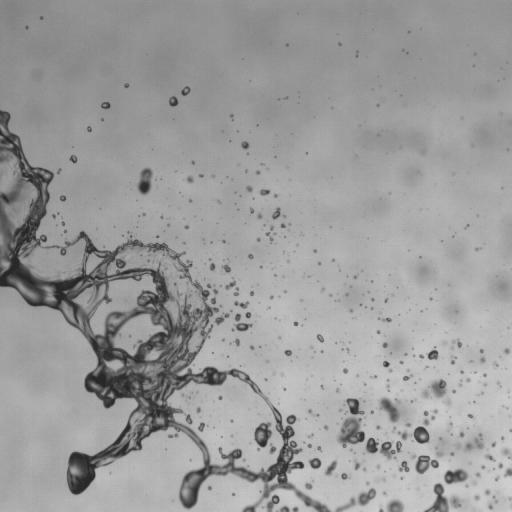droplet: (363, 437, 402, 460), (376, 396, 401, 423), (253, 421, 272, 451), (420, 379, 446, 399), (137, 167, 153, 195), (443, 468, 468, 484), (426, 346, 438, 360), (308, 457, 321, 469), (500, 447, 511, 460), (353, 459, 365, 470), (398, 460, 409, 472), (7, 121, 18, 132), (21, 145, 32, 156), (46, 182, 57, 193), (240, 196, 251, 207), (266, 198, 277, 209), (44, 201, 55, 212), (170, 241, 181, 252), (206, 271, 217, 282), (224, 316, 235, 327), (71, 328, 82, 339), (86, 359, 97, 370), (190, 362, 201, 373), (410, 363, 421, 374), (487, 369, 498, 380), (421, 376, 432, 387), (469, 379, 480, 390), (428, 394, 439, 405), (125, 397, 136, 408), (394, 418, 405, 429), (330, 424, 341, 435), (404, 436, 415, 447), (441, 440, 452, 451), (416, 443, 427, 454), (472, 448, 483, 459), (395, 450, 406, 461), (389, 457, 400, 468), (438, 461, 449, 472), (463, 464, 474, 475), (285, 470, 296, 481), (364, 470, 375, 481), (481, 470, 492, 481), (205, 473, 216, 484), (236, 476, 247, 487), (442, 484, 453, 495), (307, 488, 318, 499), (378, 496, 389, 507), (461, 496, 472, 507), (367, 498, 378, 509), (382, 360, 392, 372), (0, 182, 10, 193), (484, 452, 495, 461), (272, 207, 280, 219), (169, 96, 178, 106), (442, 397, 451, 407), (304, 480, 313, 490), (181, 86, 190, 95), (9, 155, 18, 164), (132, 174, 141, 183), (148, 178, 157, 187), (222, 273, 231, 282), (236, 330, 245, 339), (477, 363, 486, 372), (376, 376, 385, 385), (487, 381, 496, 390), (325, 382, 334, 391), (371, 399, 380, 408), (395, 403, 404, 412), (380, 409, 389, 418), (316, 416, 325, 425), (153, 429, 162, 438), (390, 433, 399, 442), (463, 433, 472, 442), (495, 440, 504, 449), (86, 447, 95, 456), (490, 447, 499, 456), (309, 449, 318, 458), (373, 450, 382, 459), (494, 453, 503, 462), (116, 455, 125, 464), (407, 458, 416, 467), (502, 459, 511, 468), (194, 460, 203, 469), (344, 464, 353, 473), (333, 465, 342, 474), (226, 471, 235, 480), (254, 478, 263, 487), (487, 481, 496, 490), (60, 482, 69, 491), (197, 485, 206, 494), (468, 485, 477, 494), (274, 486, 283, 495), (480, 494, 489, 503), (294, 498, 303, 507), (326, 501, 335, 510), (183, 175, 193, 183), (341, 472, 351, 480), (269, 443, 276, 454), (197, 422, 205, 431), (259, 189, 270, 195), (505, 438, 511, 449), (255, 505, 266, 511), (350, 505, 361, 511), (241, 141, 249, 149), (69, 155, 77, 163), (316, 334, 324, 342), (101, 102, 110, 109), (450, 355, 457, 364), (458, 427, 464, 437), (284, 349, 292, 356), (473, 493, 480, 501), (0, 234, 5, 245), (0, 284, 5, 295), (209, 262, 215, 271), (233, 287, 239, 296), (404, 420, 411, 427), (474, 472, 481, 479), (176, 94, 183, 101), (72, 149, 79, 156), (137, 163, 144, 170), (248, 167, 255, 174), (192, 175, 199, 182), (132, 186, 139, 193), (252, 187, 259, 194), (275, 216, 282, 223), (39, 217, 46, 224), (273, 224, 280, 231), (34, 230, 41, 237), (92, 240, 99, 247), (179, 255, 186, 262), (214, 263, 221, 270), (347, 277, 354, 284), (217, 286, 224, 293), (236, 295, 243, 302), (39, 304, 46, 311), (353, 305, 360, 312), (238, 307, 245, 314), (52, 308, 59, 315), (211, 311, 218, 318), (208, 315, 215, 322), (239, 316, 246, 323), (234, 329, 241, 336), (85, 343, 92, 350), (485, 357, 492, 364), (207, 360, 214, 367), (216, 364, 223, 371), (463, 370, 470, 377), (79, 372, 86, 379), (366, 378, 373, 385), (444, 384, 451, 391), (414, 390, 421, 397), (88, 391, 95, 398), (416, 395, 423, 402), (114, 397, 121, 404), (96, 398, 103, 405), (357, 403, 364, 410), (345, 411, 352, 418), (281, 420, 288, 427), (358, 424, 365, 431), (167, 426, 174, 433), (407, 426, 414, 433), (441, 431, 448, 438), (109, 434, 116, 441), (459, 437, 466, 444), (140, 438, 147, 445), (359, 440, 366, 447), (483, 440, 490, 447), (471, 446, 478, 453), (454, 448, 461, 455), (479, 448, 486, 455), (127, 450, 134, 457), (314, 451, 321, 458), (365, 451, 372, 458), (292, 454, 299, 461), (484, 459, 491, 466), (303, 461, 310, 468), (320, 462, 327, 469), (449, 465, 456, 472), (181, 467, 188, 474), (498, 467, 505, 474), (376, 469, 383, 476), (438, 477, 445, 484), (88, 481, 95, 488), (441, 481, 448, 488), (362, 485, 369, 492), (301, 487, 308, 494), (479, 492, 486, 499), (430, 493, 437, 500), (318, 497, 325, 504), (342, 497, 349, 504), (246, 499, 253, 506), (175, 500, 182, 507), (473, 500, 480, 507), (272, 503, 279, 510), (506, 398, 511, 407), (187, 506, 196, 511), (401, 506, 410, 511), (447, 506, 456, 511), (246, 185, 252, 192), (256, 212, 262, 219), (503, 348, 510, 354), (306, 433, 313, 439), (484, 488, 490, 495), (234, 338, 239, 346), (467, 414, 475, 419), (59, 195, 65, 201), (245, 312, 251, 318), (471, 479, 477, 485), (493, 361, 498, 368), (196, 406, 201, 413), (317, 445, 322, 452), (488, 502, 493, 509), (86, 126, 91, 132), (56, 168, 61, 174), (280, 222, 285, 228), (248, 253, 253, 259), (442, 340, 447, 346), (382, 342, 387, 348), (480, 357, 485, 363), (342, 368, 348, 373), (496, 381, 501, 387), (323, 424, 328, 430), (491, 441, 496, 447), (498, 462, 503, 468), (494, 475, 499, 481), (382, 491, 388, 496), (250, 207, 254, 214), (474, 247, 481, 251), (507, 474, 511, 481), (182, 507, 189, 511), (345, 507, 352, 511), (353, 274, 358, 279), (320, 287, 325, 292), (293, 321, 298, 326), (249, 345, 254, 350), (419, 354, 424, 359), (465, 377, 470, 382), (375, 464, 380, 469), (123, 78, 128, 83), (164, 101, 169, 106), (173, 104, 178, 109), (0, 106, 5, 111), (247, 140, 252, 145), (246, 146, 251, 151), (241, 148, 246, 153), (29, 161, 34, 166), (43, 164, 48, 169), (46, 165, 51, 170), (257, 165, 262, 170), (51, 168, 56, 173), (182, 173, 187, 178), (187, 182, 192, 187), (263, 184, 268, 189), (241, 186, 246, 191), (247, 191, 252, 196), (267, 192, 272, 197), (264, 193, 269, 198), (253, 209, 258, 214), (279, 209, 284, 214), (258, 218, 263, 223), (63, 224, 68, 229), (59, 225, 64, 230), (264, 226, 269, 231), (84, 229, 89, 234), (74, 231, 79, 236), (87, 233, 92, 238), (272, 234, 277, 239), (67, 237, 72, 242), (121, 238, 126, 243), (151, 238, 156, 243), (157, 238, 162, 243), (204, 238, 209, 243), (142, 239, 147, 244), (39, 240, 44, 245), (60, 242, 65, 247), (167, 243, 172, 248), (109, 246, 114, 251), (175, 248, 180, 253), (205, 261, 210, 266), (187, 266, 192, 271), (272, 268, 277, 273), (276, 273, 281, 278), (348, 273, 353, 278), (201, 284, 206, 289), (214, 284, 219, 289), (230, 286, 235, 291), (345, 287, 350, 292), (323, 289, 328, 294), (279, 291, 284, 296), (368, 292, 373, 297), (331, 294, 336, 299), (328, 296, 333, 301), (20, 298, 25, 303), (267, 299, 272, 304), (369, 301, 374, 306), (24, 302, 29, 307), (208, 302, 213, 307), (213, 302, 218, 307), (27, 304, 32, 309), (350, 311, 355, 316), (230, 312, 235, 317), (219, 321, 224, 326), (212, 322, 217, 327), (71, 326, 76, 331), (243, 329, 248, 334), (204, 337, 209, 342), (223, 339, 228, 344), (239, 339, 244, 344), (446, 341, 451, 346), (231, 342, 236, 347), (337, 342, 342, 347), (452, 342, 457, 347), (201, 343, 206, 348), (347, 343, 352, 348), (504, 343, 509, 348), (253, 344, 258, 349), (284, 344, 289, 349), (500, 345, 505, 350), (384, 346, 389, 351), (426, 347, 431, 352), (315, 350, 320, 355), (407, 350, 412, 355), (437, 351, 442, 356), (478, 352, 483, 357), (501, 352, 506, 357), (194, 354, 199, 359), (288, 354, 293, 359), (400, 355, 405, 360), (414, 355, 419, 360), (430, 358, 435, 363), (495, 358, 500, 363), (378, 359, 383, 364), (343, 363, 348, 368), (387, 363, 392, 368), (234, 364, 239, 369), (383, 366, 388, 371), (477, 370, 482, 375), (404, 371, 409, 376), (460, 373, 465, 378), (468, 373, 473, 378), (249, 375, 254, 380), (480, 376, 485, 381), (408, 377, 413, 382), (461, 379, 466, 384), (79, 380, 84, 385), (453, 384, 458, 389), (481, 386, 486, 391), (350, 393, 355, 398), (441, 394, 446, 399), (390, 399, 395, 404), (109, 404, 114, 409), (344, 405, 349, 410), (311, 409, 316, 414), (294, 412, 299, 417), (305, 412, 310, 417), (434, 413, 439, 418), (420, 414, 425, 419), (425, 414, 430, 419), (450, 417, 455, 422), (338, 419, 343, 424), (428, 419, 433, 424), (392, 421, 397, 426), (418, 421, 423, 426), (290, 423, 295, 428), (120, 424, 125, 429), (424, 425, 429, 430), (462, 428, 467, 433), (177, 430, 182, 435), (150, 431, 155, 436), (363, 435, 368, 440), (396, 435, 401, 440), (171, 436, 176, 441), (287, 436, 292, 441), (305, 438, 310, 443), (399, 438, 404, 443), (413, 440, 418, 445), (470, 440, 475, 445), (422, 441, 427, 446), (337, 442, 342, 447), (311, 443, 316, 448), (399, 445, 404, 450), (450, 446, 455, 451), (394, 451, 399, 456), (64, 454, 69, 459), (429, 454, 434, 459), (356, 457, 361, 462), (436, 457, 441, 462), (396, 460, 401, 465), (493, 461, 498, 466), (350, 462, 355, 467), (379, 465, 384, 470), (427, 465, 432, 470), (357, 466, 362, 471), (93, 467, 98, 472), (313, 467, 318, 472), (478, 468, 483, 473), (330, 469, 335, 474), (306, 478, 311, 483), (343, 478, 348, 483), (464, 478, 469, 483), (429, 484, 434, 489), (269, 490, 274, 495), (489, 490, 494, 495), (69, 492, 74, 497), (257, 492, 262, 497), (469, 495, 474, 500), (368, 498, 373, 503), (489, 498, 494, 503), (505, 499, 510, 504), (491, 502, 496, 507), (481, 373, 487, 377), (124, 83, 129, 87), (190, 160, 195, 164), (255, 170, 260, 174), (273, 193, 278, 197), (217, 199, 221, 204), (61, 221, 65, 226), (184, 225, 189, 229), (270, 225, 274, 230), (250, 291, 254, 296), (269, 294, 273, 299), (320, 384, 324, 389), (338, 408, 343, 412), (370, 409, 374, 414), (376, 425, 381, 429), (464, 483, 469, 487), (207, 485, 211, 490), (188, 198, 192, 202), (282, 214, 286, 218), (256, 237, 260, 241), (317, 261, 321, 265), (328, 293, 332, 297), (384, 298, 388, 302), (349, 308, 353, 312), (376, 330, 380, 334), (309, 345, 313, 349), (479, 349, 483, 353), (399, 360, 403, 364), (483, 382, 487, 386), (218, 395, 222, 399), (383, 431, 387, 435), (307, 443, 311, 447), (242, 458, 246, 462), (481, 465, 485, 469), (362, 467, 366, 471), (392, 473, 396, 477), (365, 481, 369, 485), (198, 174, 203, 177), (272, 232, 277, 235), (406, 367, 409, 372), (336, 388, 339, 393), (185, 396, 190, 399), (501, 436, 504, 441), (508, 346, 511, 351), (508, 350, 511, 355), (508, 405, 511, 410), (508, 491, 511, 496), (342, 508, 347, 511), (486, 508, 491, 511), (25, 25, 28, 29), (283, 96, 287, 99), (211, 174, 215, 177), (52, 214, 55, 218), (64, 229, 67, 233), (155, 235, 159, 238), (221, 240, 225, 243), (313, 249, 317, 252), (286, 259, 289, 263), (331, 258, 334, 262), (283, 290, 287, 293), (371, 297, 374, 301), (266, 306, 270, 309), (370, 306, 373, 310), (277, 336, 281, 339), (265, 360, 269, 363), (424, 365, 428, 368), (272, 371, 275, 375), (280, 372, 283, 376), (363, 382, 366, 386), (452, 389, 455, 393), (438, 437, 442, 440), (450, 452, 454, 455), (400, 476, 404, 479), (416, 487, 420, 490), (231, 492, 235, 495), (468, 360, 473, 362), (0, 134, 2, 139), (40, 16, 43, 19), (285, 43, 288, 46), (338, 42, 341, 45), (246, 152, 249, 155), (167, 223, 170, 226), (208, 258, 211, 261), (259, 265, 262, 268), (219, 284, 222, 287), (345, 293, 348, 296), (390, 293, 393, 296), (429, 297, 432, 300), (359, 303, 362, 306), (219, 304, 222, 307), (364, 305, 367, 308), (455, 310, 458, 313), (128, 334, 131, 337), (221, 338, 224, 341), (229, 342, 232, 345), (313, 350, 316, 353), (320, 350, 323, 353), (404, 352, 407, 355), (412, 354, 415, 357), (356, 374, 359, 377), (264, 378, 267, 381), (283, 387, 286, 390), (507, 390, 510, 393), (181, 393, 184, 396), (230, 419, 233, 422), (230, 434, 233, 437), (492, 467, 495, 470), (39, 12, 42, 15), (42, 15, 45, 18), (36, 16, 39, 19), (39, 19, 42, 22), (22, 26, 25, 29), (27, 26, 30, 29), (404, 29, 407, 32), (340, 40, 343, 43), (335, 43, 338, 46), (338, 45, 341, 48), (404, 48, 407, 51), (353, 51, 356, 54), (357, 52, 360, 55), (183, 83, 186, 86), (187, 84, 190, 87), (180, 86, 183, 89), (124, 87, 127, 90), (189, 89, 192, 92), (186, 93, 189, 96), (282, 94, 285, 97), (287, 96, 290, 99), (284, 98, 287, 101), (375, 100, 378, 103), (98, 101, 101, 104), (109, 102, 112, 105), (375, 106, 378, 109), (101, 107, 104, 110), (106, 107, 109, 110), (227, 111, 230, 114), (231, 111, 234, 114), (232, 115, 235, 118), (103, 117, 106, 120), (228, 117, 231, 120), (99, 120, 102, 123), (253, 122, 256, 125), (258, 123, 261, 126), (84, 124, 87, 127), (91, 127, 94, 130), (84, 129, 87, 132), (87, 131, 90, 134), (227, 136, 230, 139), (225, 139, 228, 142), (305, 148, 308, 151), (302, 151, 305, 154), (307, 151, 310, 154), (67, 154, 70, 157), (76, 159, 79, 162), (188, 159, 191, 162), (193, 159, 196, 162), (260, 159, 263, 162), (69, 160, 72, 163), (73, 162, 76, 165), (189, 163, 192, 166), (241, 169, 244, 172), (59, 170, 62, 173), (246, 170, 249, 173), (259, 170, 262, 173), (199, 171, 202, 174), (225, 172, 228, 175), (257, 173, 260, 176), (0, 175, 3, 178), (198, 176, 201, 179), (227, 176, 230, 179), (184, 179, 187, 182), (180, 191, 183, 194), (62, 192, 65, 195), (235, 192, 238, 195), (276, 195, 279, 198), (65, 196, 68, 199), (190, 196, 193, 199), (185, 198, 188, 201), (219, 198, 222, 201), (251, 199, 254, 202), (60, 200, 63, 203), (188, 202, 191, 205), (273, 208, 276, 211), (142, 209, 145, 212), (247, 209, 250, 212), (53, 211, 56, 214), (139, 212, 142, 215), (260, 212, 263, 215), (157, 213, 160, 216), (55, 214, 58, 217), (162, 215, 165, 218), (157, 216, 160, 219), (269, 216, 272, 219), (63, 219, 66, 222), (466, 220, 469, 223), (58, 222, 61, 225), (64, 222, 67, 225), (183, 222, 186, 225), (284, 222, 287, 225), (169, 223, 172, 226), (463, 223, 466, 226), (188, 224, 191, 227), (466, 226, 469, 229), (281, 227, 284, 230), (128, 228, 131, 231), (184, 228, 187, 231), (60, 230, 63, 233), (451, 231, 454, 234), (154, 232, 157, 235), (268, 232, 271, 235), (280, 234, 283, 237), (46, 236, 49, 239), (222, 236, 225, 239), (440, 236, 443, 239), (209, 237, 212, 240), (283, 237, 286, 240), (182, 238, 185, 241), (253, 238, 256, 241), (212, 240, 215, 243), (271, 240, 274, 243), (164, 241, 167, 244), (224, 241, 227, 244), (256, 241, 259, 244), (221, 242, 224, 245), (209, 243, 212, 246), (475, 244, 478, 247), (312, 246, 315, 249), (316, 248, 319, 251), (472, 249, 475, 252), (477, 249, 480, 252), (279, 250, 282, 253), (284, 250, 287, 253), (310, 250, 313, 253), (246, 251, 249, 254), (251, 252, 254, 255), (418, 252, 421, 255), (208, 254, 211, 257), (244, 254, 247, 257), (415, 255, 418, 258), (246, 257, 249, 260), (328, 257, 331, 260), (250, 258, 253, 261), (334, 258, 337, 261), (320, 260, 323, 263), (191, 261, 194, 264), (222, 261, 225, 264), (314, 261, 317, 264), (331, 261, 334, 264), (258, 262, 261, 265), (227, 263, 230, 266), (262, 264, 265, 267), (221, 268, 224, 271), (353, 272, 356, 275), (304, 273, 307, 276), (356, 275, 359, 278), (273, 276, 276, 279), (370, 276, 373, 279), (234, 277, 237, 280), (191, 278, 194, 281), (352, 278, 355, 281), (367, 278, 370, 281), (370, 282, 373, 285), (209, 283, 212, 286), (318, 286, 321, 289), (250, 287, 253, 290), (281, 287, 284, 290), (285, 287, 288, 290), (237, 289, 240, 292), (253, 290, 256, 293), (364, 291, 367, 294), (284, 292, 287, 295), (267, 293, 270, 296), (249, 295, 252, 298), (345, 295, 348, 298), (431, 295, 434, 298), (272, 296, 275, 299), (373, 296, 376, 299), (381, 298, 384, 301), (368, 299, 371, 302), (386, 299, 389, 302), (427, 299, 430, 302), (430, 299, 433, 302), (231, 300, 234, 303), (237, 300, 240, 303), (359, 300, 362, 303), (356, 303, 359, 306), (361, 304, 364, 307), (264, 305, 267, 308), (270, 305, 273, 308), (349, 305, 352, 308), (367, 305, 370, 308), (372, 307, 375, 310), (267, 308, 270, 311), (422, 308, 425, 311), (419, 311, 422, 314), (250, 312, 253, 315), (383, 315, 386, 318), (275, 318, 278, 321), (294, 318, 297, 321), (303, 319, 306, 322), (377, 319, 380, 322), (384, 320, 387, 323), (290, 322, 293, 325), (297, 322, 300, 325), (302, 324, 305, 327), (293, 325, 296, 328), (210, 328, 213, 331), (379, 329, 382, 332), (373, 330, 376, 333), (277, 332, 280, 335), (320, 332, 323, 335), (376, 333, 379, 336), (220, 335, 223, 338), (322, 335, 325, 338), (453, 336, 456, 339), (232, 337, 235, 340), (316, 339, 319, 342), (459, 339, 462, 342), (336, 340, 339, 343), (258, 342, 261, 345), (379, 342, 382, 345), (333, 343, 336, 346), (460, 344, 463, 347), (261, 345, 264, 348), (342, 345, 345, 348), (479, 345, 482, 348), (247, 347, 250, 350), (211, 348, 214, 351), (322, 348, 325, 351), (343, 348, 346, 351), (476, 348, 479, 351), (348, 349, 351, 352), (404, 349, 407, 352), (322, 351, 325, 354), (282, 352, 285, 355), (319, 352, 322, 355), (211, 353, 214, 356), (223, 353, 226, 356), (228, 354, 231, 357), (424, 354, 427, 357), (469, 356, 472, 359), (418, 357, 421, 360), (447, 359, 450, 362), (469, 362, 472, 365), (398, 363, 401, 366), (451, 363, 454, 366), (340, 366, 343, 369), (495, 366, 498, 369), (425, 367, 428, 370), (462, 368, 465, 371), (472, 368, 475, 371), (245, 371, 248, 374), (340, 371, 343, 374), (346, 371, 349, 374), (457, 371, 460, 374), (358, 372, 361, 375), (371, 372, 374, 375), (265, 375, 268, 378), (372, 377, 375, 380), (442, 377, 445, 380), (456, 379, 459, 382), (384, 380, 387, 383), (388, 380, 391, 383), (499, 381, 502, 384), (360, 382, 363, 385), (479, 382, 482, 385), (413, 383, 416, 386), (283, 384, 286, 387), (322, 384, 325, 387), (337, 384, 340, 387), (495, 384, 498, 387), (317, 385, 320, 388), (363, 385, 366, 388), (259, 387, 262, 390), (279, 387, 282, 390), (285, 387, 288, 390), (332, 388, 335, 391), (455, 389, 458, 392), (282, 390, 285, 393), (477, 390, 480, 393), (483, 391, 486, 394), (479, 394, 482, 397), (396, 396, 399, 399), (410, 396, 413, 399), (407, 399, 410, 402), (469, 399, 472, 402), (475, 399, 478, 402), (412, 400, 415, 403), (504, 403, 507, 406), (274, 405, 277, 408), (306, 406, 309, 409), (502, 407, 505, 410), (278, 409, 281, 412), (437, 409, 440, 412), (420, 411, 423, 414), (469, 411, 472, 414), (448, 412, 451, 415), (318, 414, 321, 417), (314, 415, 317, 418), (466, 416, 469, 419), (407, 419, 410, 422), (325, 422, 328, 425), (376, 422, 379, 425), (452, 423, 455, 426), (373, 424, 376, 427), (327, 426, 330, 429), (321, 427, 324, 430), (394, 428, 397, 431), (449, 429, 452, 432), (480, 430, 483, 433), (307, 431, 310, 434), (456, 432, 459, 435), (428, 433, 431, 436), (481, 434, 484, 437), (311, 435, 314, 438), (411, 436, 414, 439), (503, 436, 506, 439), (168, 437, 171, 440), (387, 438, 390, 441), (488, 442, 491, 445), (320, 446, 323, 449), (453, 452, 456, 455), (450, 455, 453, 458), (107, 463, 110, 466), (365, 466, 368, 469), (373, 467, 376, 470), (493, 474, 496, 477), (338, 475, 341, 478), (384, 476, 387, 479), (402, 477, 405, 480), (366, 478, 369, 481), (399, 479, 402, 482), (493, 480, 496, 483), (310, 482, 313, 485), (231, 489, 234, 492), (228, 492, 231, 495), (234, 492, 237, 495), (231, 495, 234, 498), (495, 496, 498, 499), (376, 507, 379, 510), (260, 163, 264, 165), (245, 169, 247, 173), (273, 274, 277, 276), (307, 275, 311, 277), (472, 64, 474, 67), (376, 104, 379, 106), (101, 118, 103, 121), (388, 192, 391, 194), (288, 223, 291, 225), (183, 241, 185, 244), (296, 243, 298, 246), (367, 290, 369, 293), (300, 299, 303, 301), (230, 309, 232, 312), (420, 310, 423, 312), (211, 352, 214, 354), (226, 355, 229, 357), (400, 389, 403, 391), (196, 391, 198, 394), (473, 400, 475, 403), (220, 435, 222, 438), (509, 325, 511, 328), (509, 390, 511, 393), (509, 396, 511, 399), (509, 425, 511, 428), (509, 431, 511, 434), (408, 31, 410, 33), (402, 49, 404, 51), (256, 124, 258, 126), (236, 130, 238, 132), (229, 140, 231, 142), (305, 152, 307, 154), (174, 170, 176, 172), (226, 176, 228, 178), (501, 187, 503, 189), (234, 191, 236, 193), (252, 197, 254, 199), (237, 208, 239, 210), (57, 212, 59, 214), (476, 214, 478, 216), (263, 224, 265, 226), (452, 235, 454, 237), (202, 238, 204, 240), (210, 241, 212, 243), (441, 240, 443, 242), (103, 245, 105, 247), (293, 250, 295, 252), (419, 256, 421, 258), (282, 275, 284, 277), (346, 275, 348, 277), (371, 280, 373, 282), (278, 295, 280, 297), (274, 317, 276, 319), (301, 324, 303, 326), (348, 341, 350, 343), (259, 345, 261, 347), (499, 356, 501, 358), (419, 378, 421, 380), (414, 382, 416, 384), (190, 392, 192, 394), (363, 400, 365, 402), (277, 402, 279, 404), (305, 417, 307, 419), (336, 422, 338, 424), (450, 433, 452, 435), (303, 441, 305, 443), (249, 442, 251, 444), (189, 459, 191, 461), (109, 472, 111, 474), (406, 52, 408, 53), (278, 98, 279, 100), (507, 148, 508, 150), (274, 156, 276, 157), (239, 195, 241, 196), (113, 226, 115, 227), (122, 234, 123, 236), (408, 249, 409, 251), (283, 251, 284, 253), (223, 259, 224, 261), (317, 280, 318, 282), (435, 288, 436, 290), (507, 327, 509, 328), (445, 331, 446, 333), (335, 342, 337, 343), (412, 347, 413, 349), (390, 352, 391, 354), (340, 383, 341, 385), (467, 427, 468, 429), (165, 448, 166, 450), (160, 178, 161, 179), (61, 217, 62, 218), (339, 269, 340, 270), (204, 278, 205, 279), (397, 287, 398, 288), (398, 314, 399, 315), (304, 318, 305, 319), (213, 427, 214, 428), (384, 471, 385, 472)
ligament: (336, 397, 366, 448), (454, 433, 484, 452), (378, 498, 404, 511), (324, 459, 337, 476), (214, 312, 229, 325), (275, 504, 298, 511), (225, 276, 236, 290), (234, 300, 249, 309), (446, 416, 453, 432), (503, 463, 511, 477), (308, 408, 319, 417), (265, 232, 273, 243), (402, 373, 413, 381), (377, 317, 391, 322), (385, 378, 390, 391), (471, 506, 482, 511), (507, 496, 511, 509), (492, 495, 498, 503), (410, 397, 416, 403), (349, 448, 355, 454), (229, 113, 234, 120), (138, 212, 145, 217), (459, 367, 464, 374), (369, 374, 377, 378), (458, 379, 462, 387), (346, 348, 350, 355), (477, 391, 484, 395), (501, 405, 508, 409), (464, 224, 469, 229), (355, 50, 358, 57), (160, 213, 163, 219), (0, 172, 2, 178), (334, 299, 340, 301), (472, 371, 477, 373), (335, 472, 337, 477), (509, 428, 511, 432), (361, 269, 363, 272), (63, 271, 66, 273), (341, 348, 344, 350), (207, 424, 208, 427), (389, 468, 391, 469)
